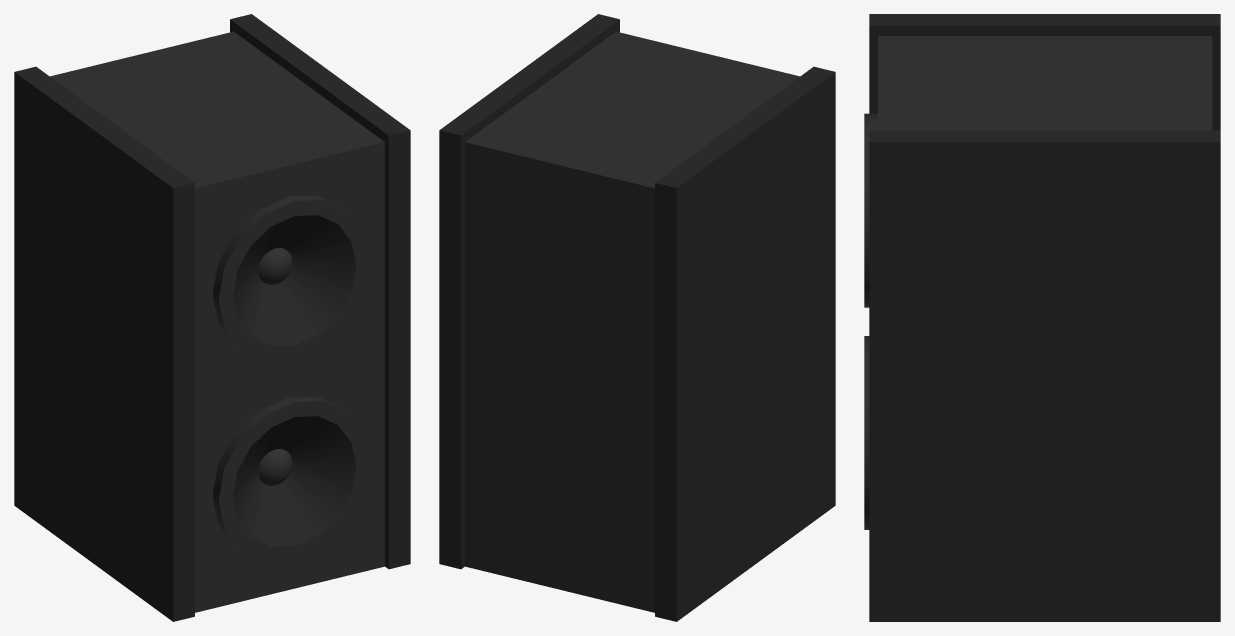
Rendered from Speaker_01.fbx.
3 views of the same model, side by side, from view 1: azimuth 30°, elevation 25°; view 2: azimuth 150°, elevation 25°; view 3: azimuth 270°, elevation 25° (orthographic). The views are drawn at different scales.
Parts seen in each view (by area): view 1: Speaker_01; view 2: Speaker_01; view 3: Speaker_01.
Boxes of the visible parts, x1,y1,x2,y2 form: Speaker_01: (14, 14, 410, 621); Speaker_01: (439, 14, 835, 621); Speaker_01: (864, 14, 1220, 621).
Size of the model in its own units: 0.4863 by 0.8497 by 0.5721.
